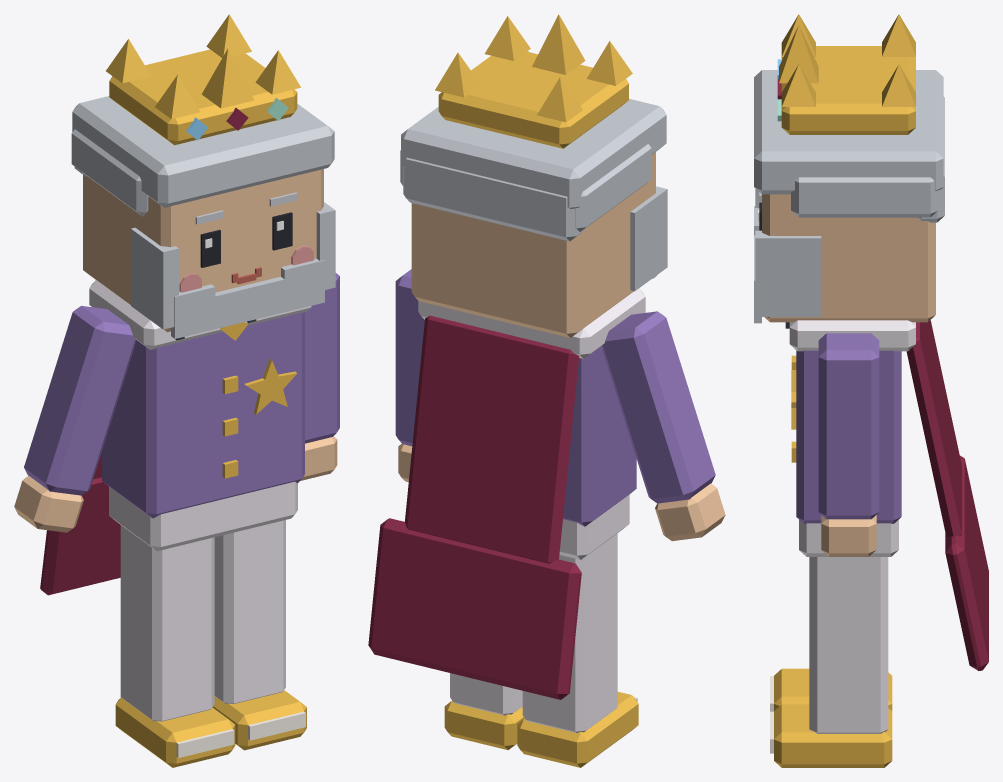
The model's file is CleanACat_NPC_Customer_Rex.fbx.
The picture shows the model from 3 angles, left to right: view 1: azimuth 30°, elevation 25°; view 2: azimuth 150°, elevation 25°; view 3: azimuth 270°, elevation 25°; orthographic projection.
Visible parts, largest first — view 1: CleanACat_NPC_Customer_Rex_Head, CleanACat_NPC_Customer_Rex_Body, CleanACat_NPC_Customer_Rex_LegR, CleanACat_NPC_Customer_Rex_LegL, CleanACat_NPC_Customer_Rex_ArmR, CleanACat_NPC_Customer_Rex_ArmL; view 2: CleanACat_NPC_Customer_Rex_Body, CleanACat_NPC_Customer_Rex_Head, CleanACat_NPC_Customer_Rex_ArmR, CleanACat_NPC_Customer_Rex_LegR, CleanACat_NPC_Customer_Rex_LegL, CleanACat_NPC_Customer_Rex_ArmL; view 3: CleanACat_NPC_Customer_Rex_Head, CleanACat_NPC_Customer_Rex_Body, CleanACat_NPC_Customer_Rex_LegL, CleanACat_NPC_Customer_Rex_ArmL, CleanACat_NPC_Customer_Rex_LegR.
Boxes of the visible parts, bbox=[...] form: CleanACat_NPC_Customer_Rex_Head: bbox=[71, 14, 335, 338]; CleanACat_NPC_Customer_Rex_Body: bbox=[40, 280, 311, 595]; CleanACat_NPC_Customer_Rex_LegR: bbox=[115, 525, 235, 767]; CleanACat_NPC_Customer_Rex_LegL: bbox=[212, 520, 306, 750]; CleanACat_NPC_Customer_Rex_ArmR: bbox=[14, 305, 136, 532]; CleanACat_NPC_Customer_Rex_ArmL: bbox=[300, 273, 339, 480]; CleanACat_NPC_Customer_Rex_Body: bbox=[368, 288, 645, 699]; CleanACat_NPC_Customer_Rex_Head: bbox=[400, 14, 667, 337]; CleanACat_NPC_Customer_Rex_ArmR: bbox=[602, 311, 725, 541]; CleanACat_NPC_Customer_Rex_LegR: bbox=[517, 533, 638, 767]; CleanACat_NPC_Customer_Rex_LegL: bbox=[444, 673, 524, 749]; CleanACat_NPC_Customer_Rex_ArmL: bbox=[395, 269, 424, 481]; CleanACat_NPC_Customer_Rex_Head: bbox=[754, 14, 944, 323]; CleanACat_NPC_Customer_Rex_Body: bbox=[785, 320, 988, 670]; CleanACat_NPC_Customer_Rex_LegL: bbox=[770, 557, 892, 767]; CleanACat_NPC_Customer_Rex_ArmL: bbox=[818, 333, 879, 556]; CleanACat_NPC_Customer_Rex_LegR: bbox=[770, 668, 892, 711].
Size of the model in its own units: 2.72 by 5.96 by 1.78.
Materials: 1 (1 with a texture image).
